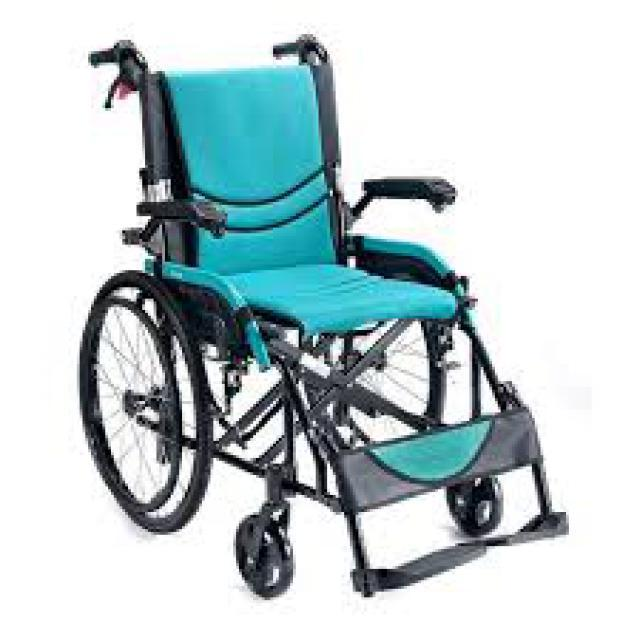wheelchair: (68, 31, 572, 603)
